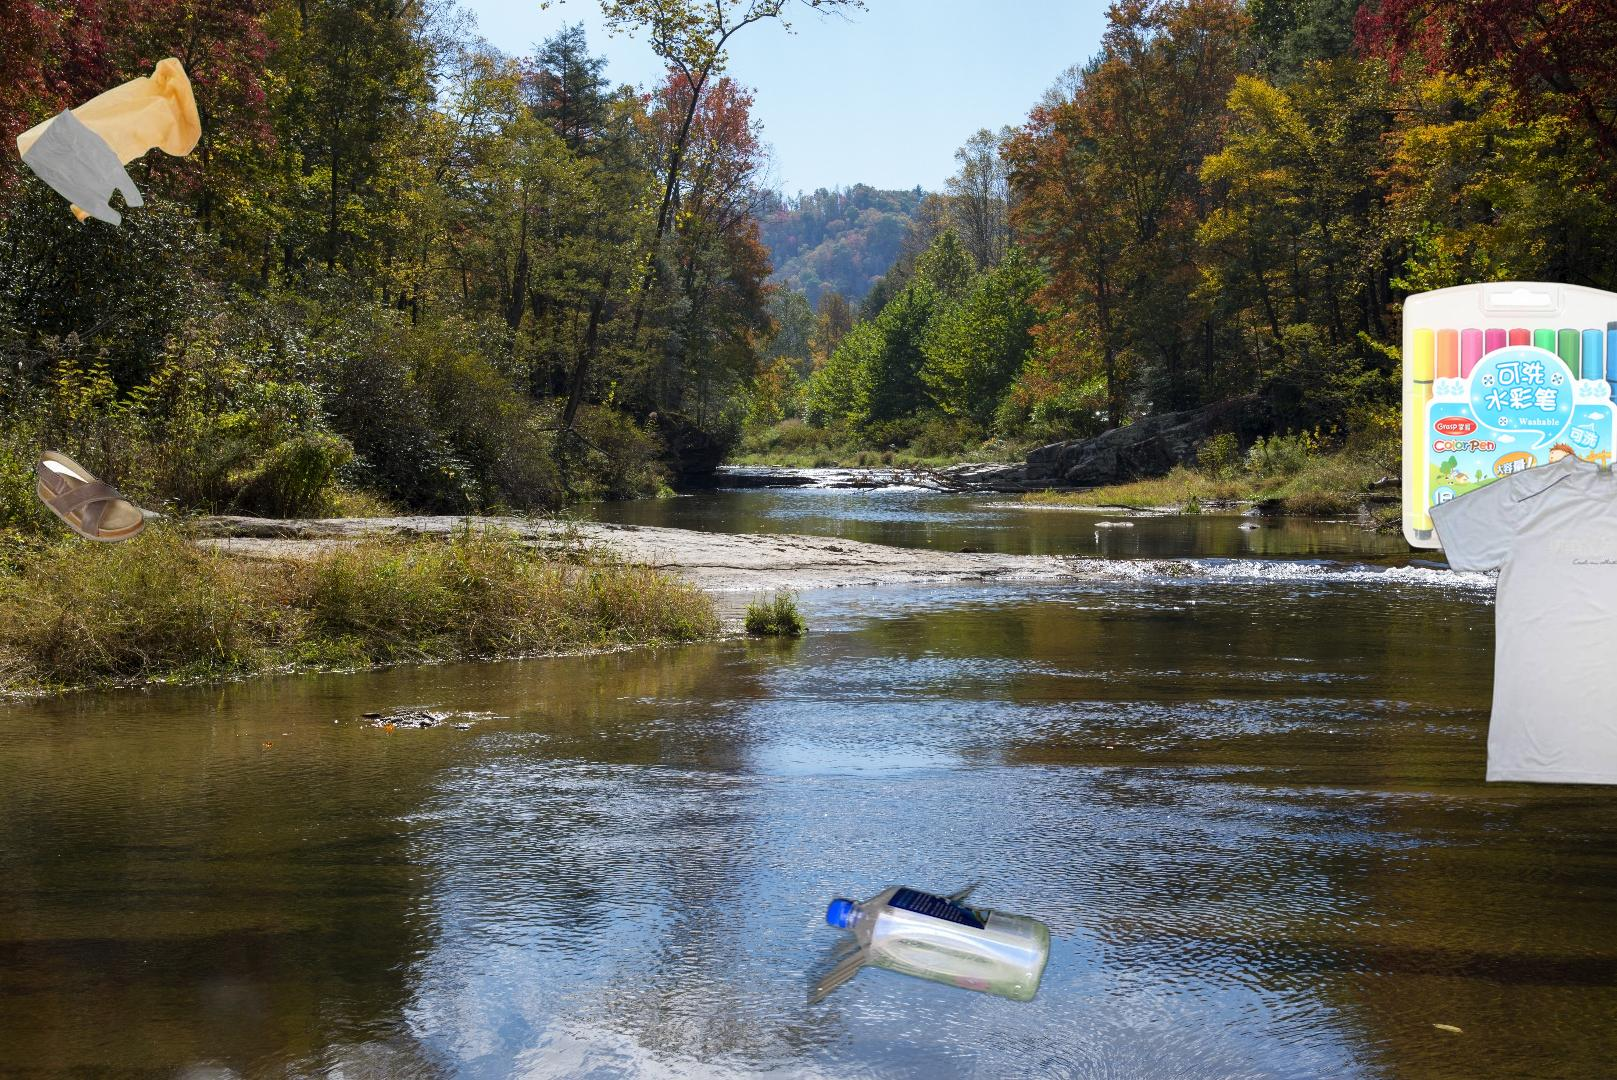clothes: (1425, 450, 1617, 796)
penholder: (49, 934, 1617, 1080), (1399, 278, 1617, 552), (921, 1052, 1617, 1080)
plastic-bag: (14, 55, 205, 230)
plastic-bottles: (807, 871, 1056, 1027)
shoes: (34, 448, 147, 545)
